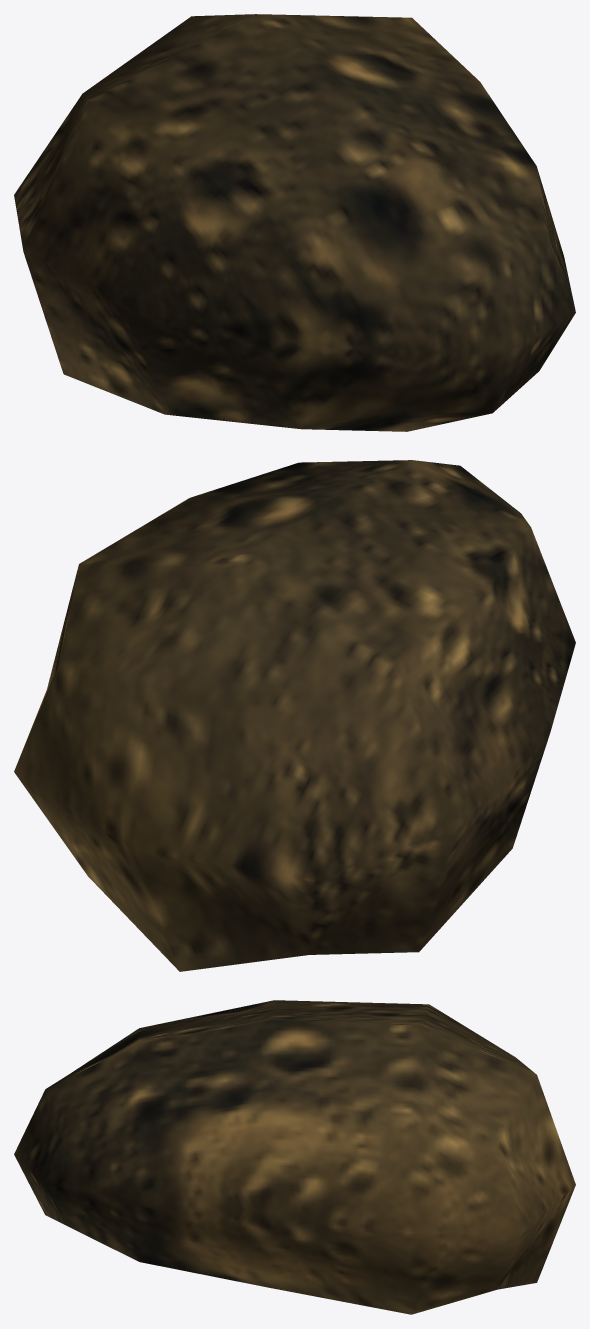
Rendered from AsteroidMed.dae.
3 renders of one model, top to bottom at view 1: azimuth 30°, elevation 25°; view 2: azimuth 150°, elevation 25°; view 3: azimuth 270°, elevation 25°, orthographic. The views are drawn at different scales.
Parts seen in each view (by area): view 1: pCube3; view 2: pCube3; view 3: pCube3.
Boxes of the visible parts, <box> form: pCube3: <box>14,14,575,431</box>; pCube3: <box>14,460,575,971</box>; pCube3: <box>14,1000,575,1314</box>.
Bounding box in the file's own units: 146 × 122 × 215.
1 material, 1 textured.
